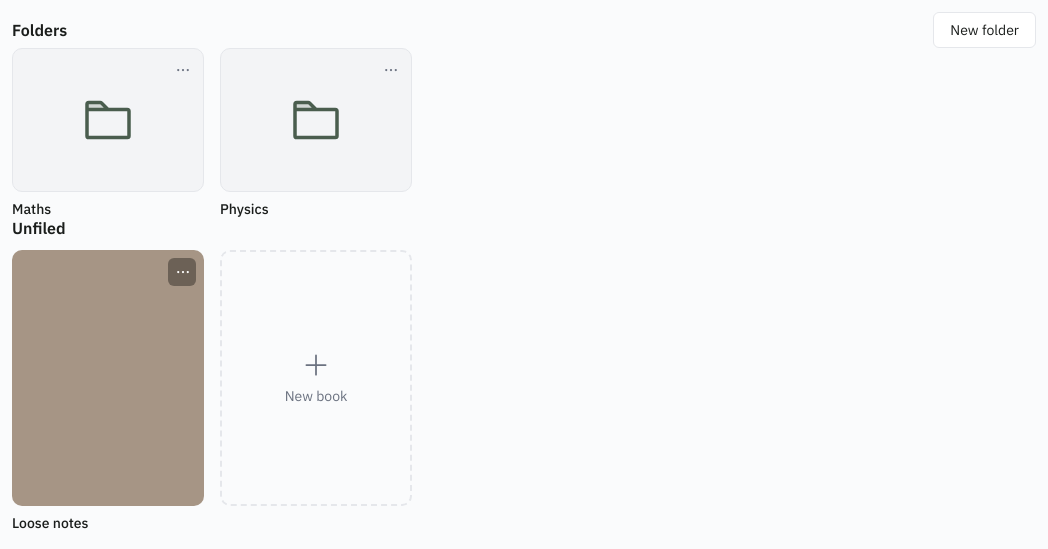
Test: FolderView › opens a folder and returns through the breadcrumb
Click the button named "Open folder Maths".
click(108, 120)  # box [12,48,204,192]
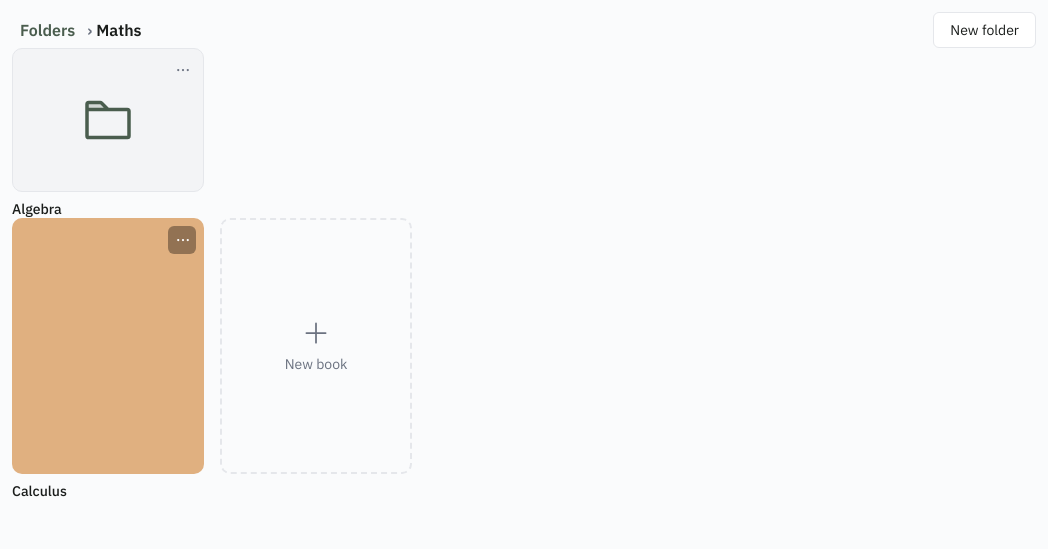
Check: the list reads "Folders › Maths", box [12,16,142,44]
Check: the text "Calculus" is shown, box [12,482,67,500]
Check: the text "Loose notes" is gone
Click the button "Folders".
click(48, 30)  # box [12,16,83,44]
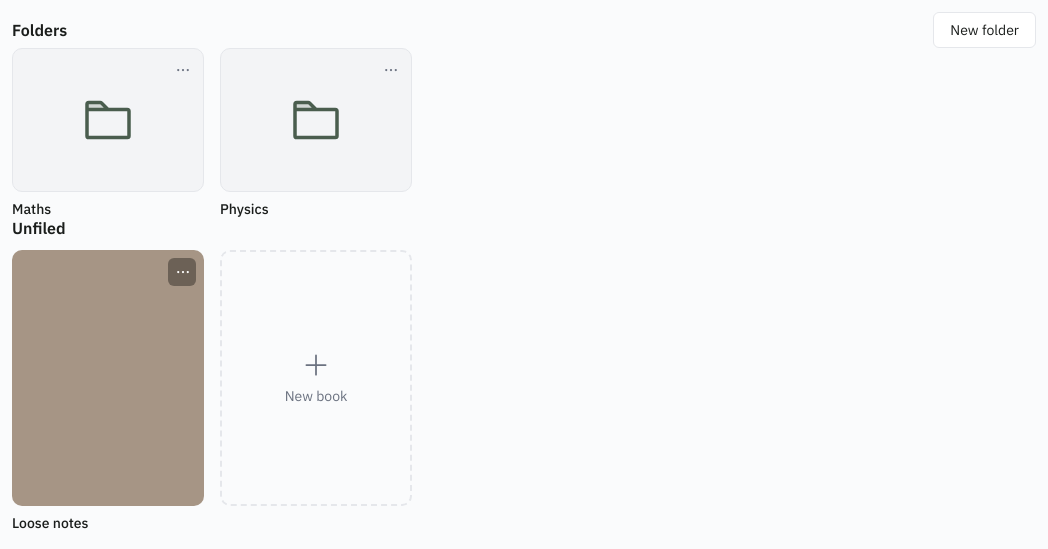
Check: the text "Folders" is shown, box [12,20,67,40]
Check: the text "Loose notes" is shown, box [12,514,88,532]
